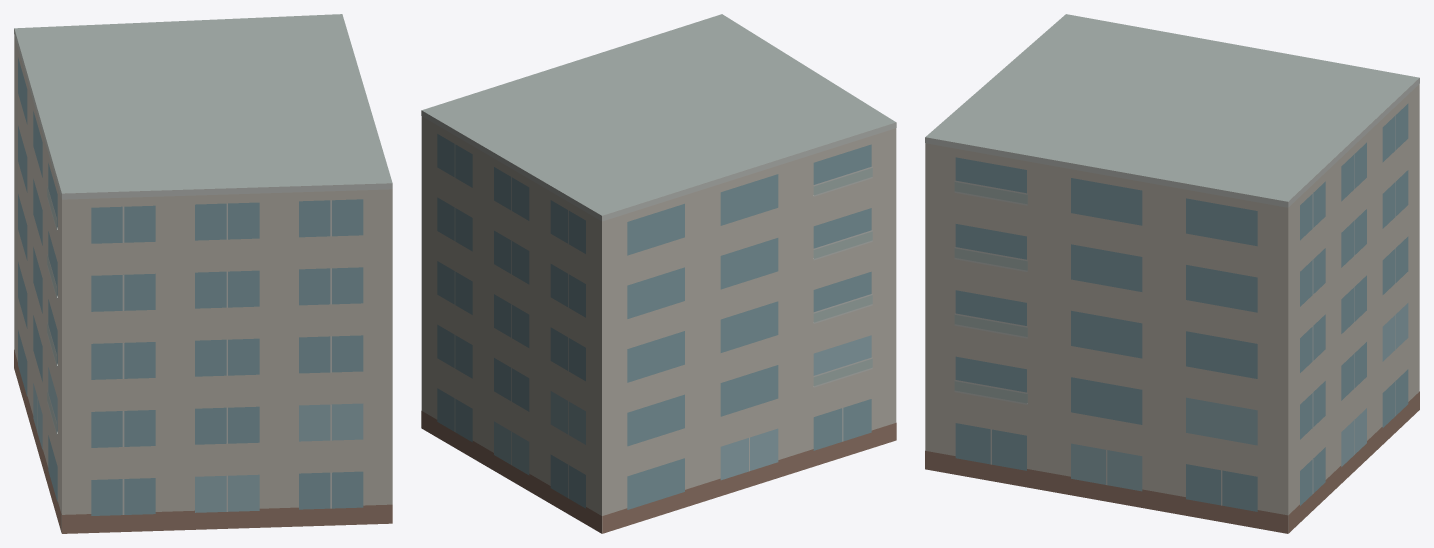
Rendered from survey-upis-32526685.glb.
3 renders of one model, left to right at view 1: azimuth 30°, elevation 25°; view 2: azimuth 150°, elevation 25°; view 3: azimuth 270°, elevation 25°, orthographic. The views are drawn at different scales.
Parts seen in each view (by area): view 1: survey-upis-32526685.tmp; view 2: survey-upis-32526685.tmp; view 3: survey-upis-32526685.tmp.
Part boxes in pixels (x1,y1,x2,y2): survey-upis-32526685.tmp: [14, 14, 392, 533]; survey-upis-32526685.tmp: [421, 14, 896, 533]; survey-upis-32526685.tmp: [925, 14, 1419, 533].
Bounding box in the file's own units: 16.5 × 13.6 × 18.37.
